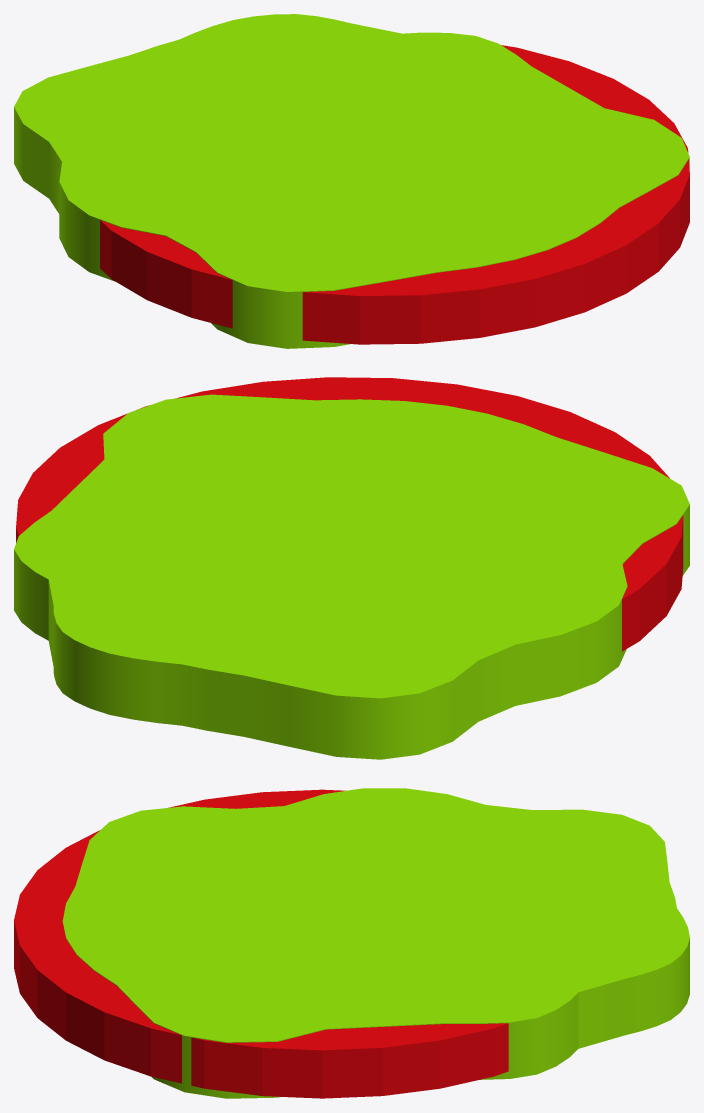
Rendered from Toppings1.fbx.
3 renders of one model, top to bottom at view 1: azimuth 30°, elevation 25°; view 2: azimuth 150°, elevation 25°; view 3: azimuth 270°, elevation 25°, orthographic. The views are drawn at different scales.
Visible parts, largest first — view 1: Lettuce, Tomato; view 2: Lettuce, Tomato; view 3: Lettuce, Tomato.
Part boxes in pixels (box(x1,y1,x2,y2)): Lettuce: box(14, 14, 689, 348); Tomato: box(100, 45, 689, 344); Lettuce: box(14, 394, 689, 759); Tomato: box(16, 377, 683, 651); Lettuce: box(62, 788, 689, 1098); Tomato: box(14, 789, 508, 1098).
Bounding box in the file's own units: 201 × 20.22 × 219.
